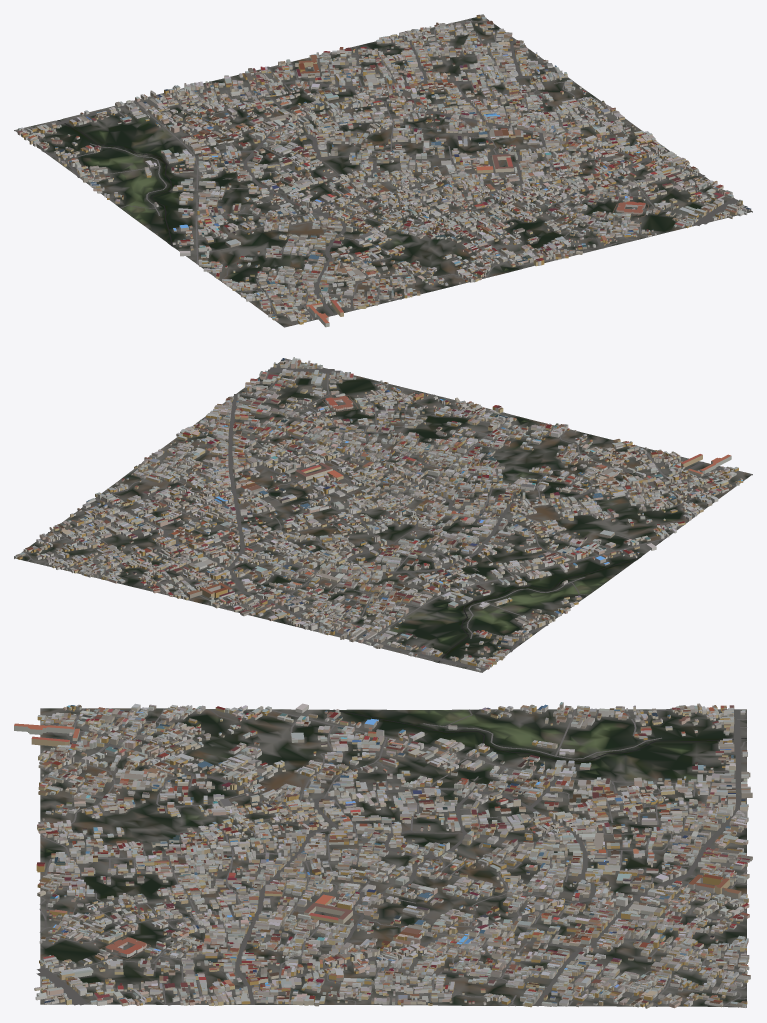
The picture shows the model from 3 angles, top to bottom: view 1: azimuth 30°, elevation 25°; view 2: azimuth 150°, elevation 25°; view 3: azimuth 270°, elevation 25°; orthographic projection. The views are drawn at different scales.
Parts seen in each view (by area): view 1: buildings, ground, roads; view 2: buildings, ground, roads; view 3: buildings, ground, roads, water.
Boxes of the visible parts, bbox=[...] form: buildings: bbox=[17, 14, 751, 327]; ground: bbox=[14, 17, 752, 327]; roads: bbox=[17, 18, 738, 327]; buildings: bbox=[14, 357, 743, 671]; ground: bbox=[14, 358, 752, 672]; roads: bbox=[23, 365, 752, 670]; buildings: bbox=[14, 702, 752, 1008]; ground: bbox=[40, 708, 746, 1007]; roads: bbox=[36, 708, 747, 1007]; water: bbox=[333, 709, 746, 762].
Size of the model in its own units: 1421 by 25.38 by 1465.
